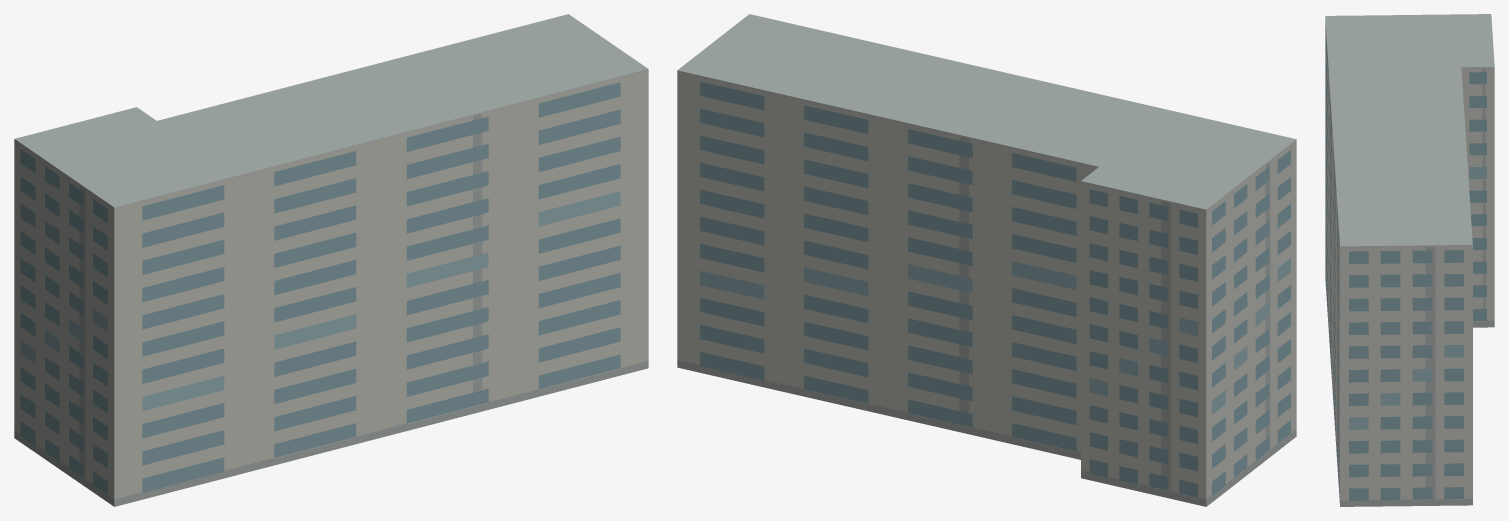
The model's file is residential-45c07807-5604-40a6-838d-6e631900ff11.glb.
3 renders of one model, left to right at view 1: azimuth 30°, elevation 25°; view 2: azimuth 150°, elevation 25°; view 3: azimuth 270°, elevation 25°, orthographic. The views are drawn at different scales.
Parts seen in each view (by area): view 1: residential-45c07807-5604-40a6-838d-6e631900ff11.tmp; view 2: residential-45c07807-5604-40a6-838d-6e631900ff11.tmp; view 3: residential-45c07807-5604-40a6-838d-6e631900ff11.tmp.
Part boxes in pixels (x1,y1,x2,y2): residential-45c07807-5604-40a6-838d-6e631900ff11.tmp: (14, 14, 648, 506); residential-45c07807-5604-40a6-838d-6e631900ff11.tmp: (677, 14, 1296, 506); residential-45c07807-5604-40a6-838d-6e631900ff11.tmp: (1325, 14, 1494, 506).
Size of the model in its own units: 68.86 by 36 by 21.23.
